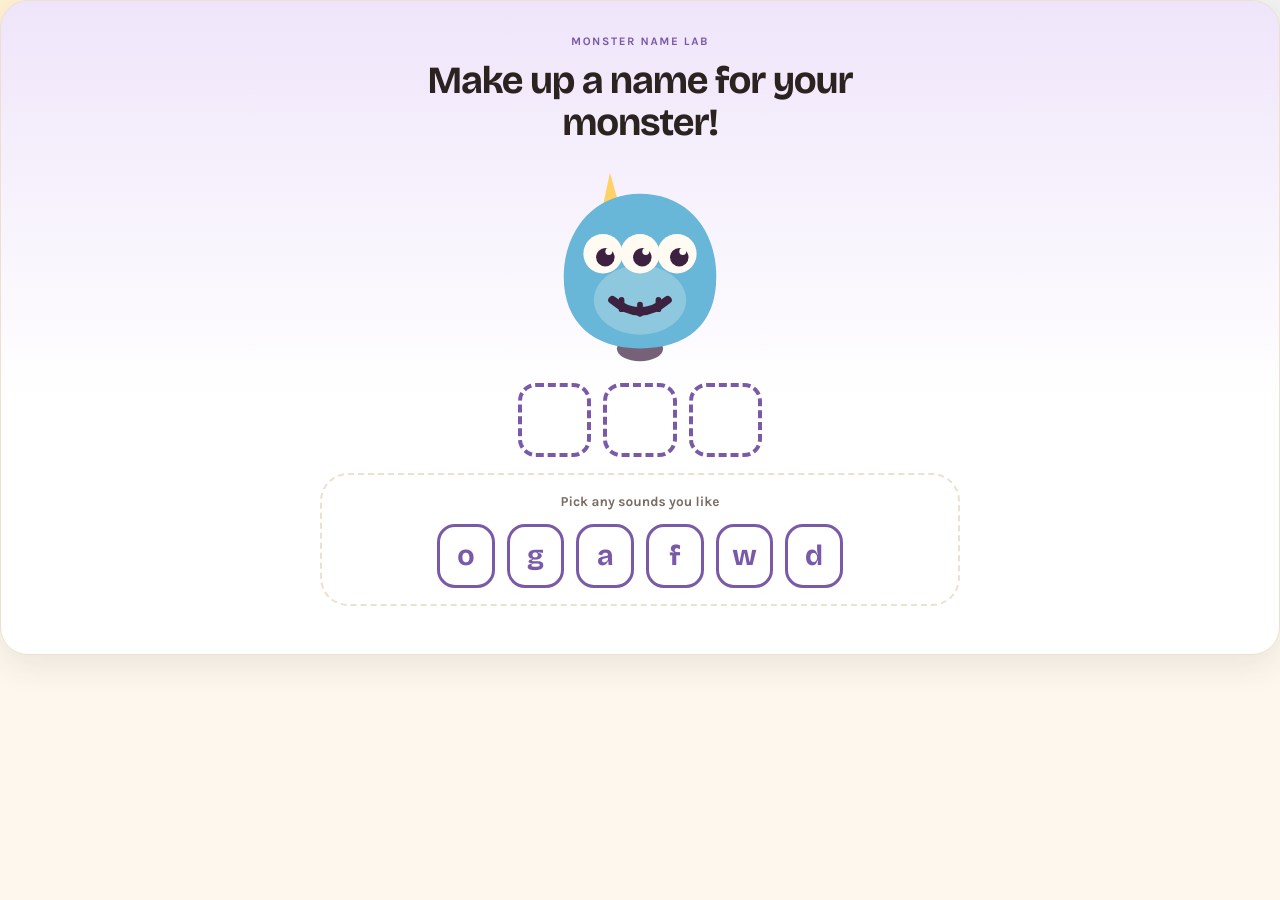
Test: Monster Name Lab › lets the child invent a name for the teacher to read
Click the button with class "grapheme-tile" showing "o": click(466, 556) [437,524,495,588]
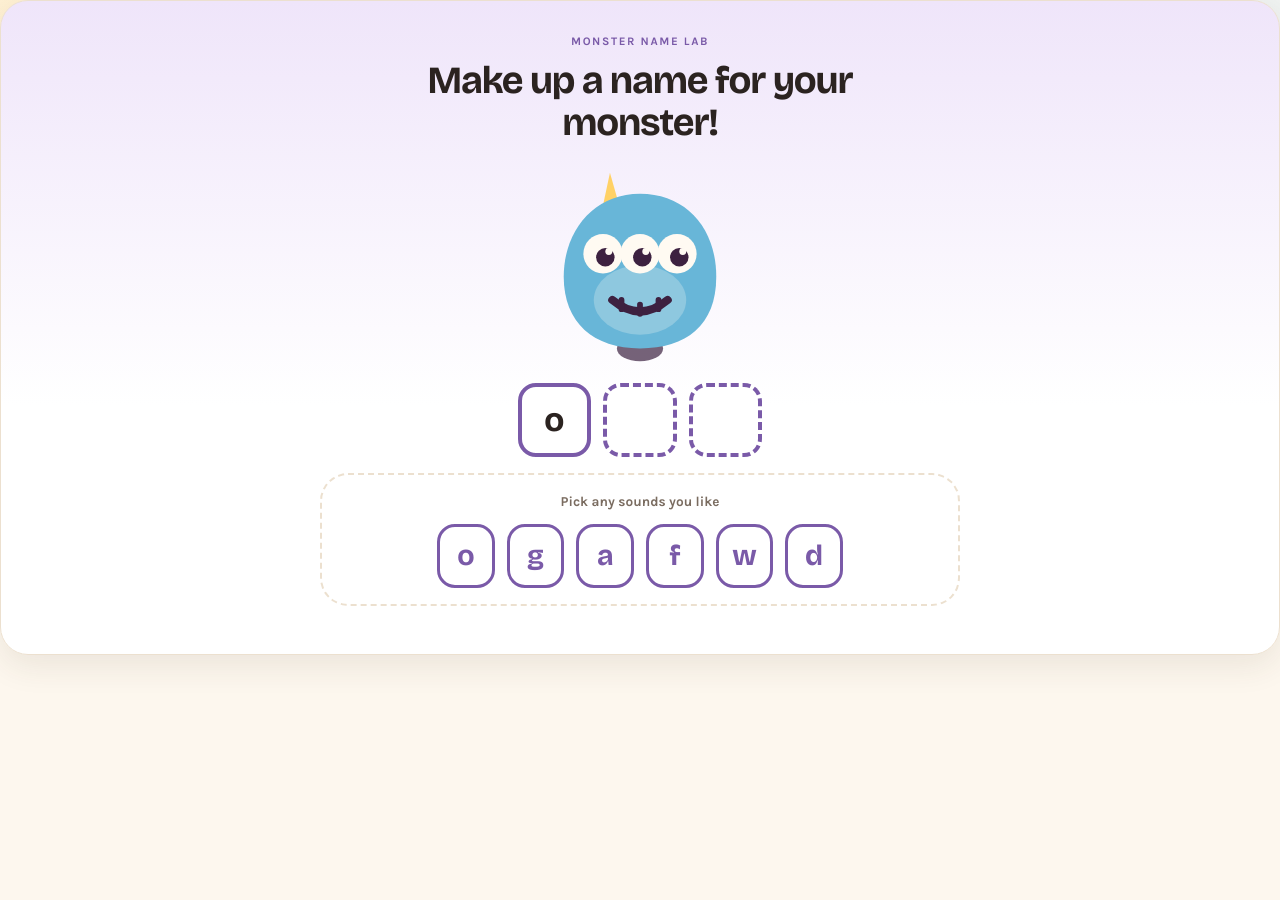
Click the button with class "grapheme-tile" showing "g": click(536, 556) [507,524,564,588]
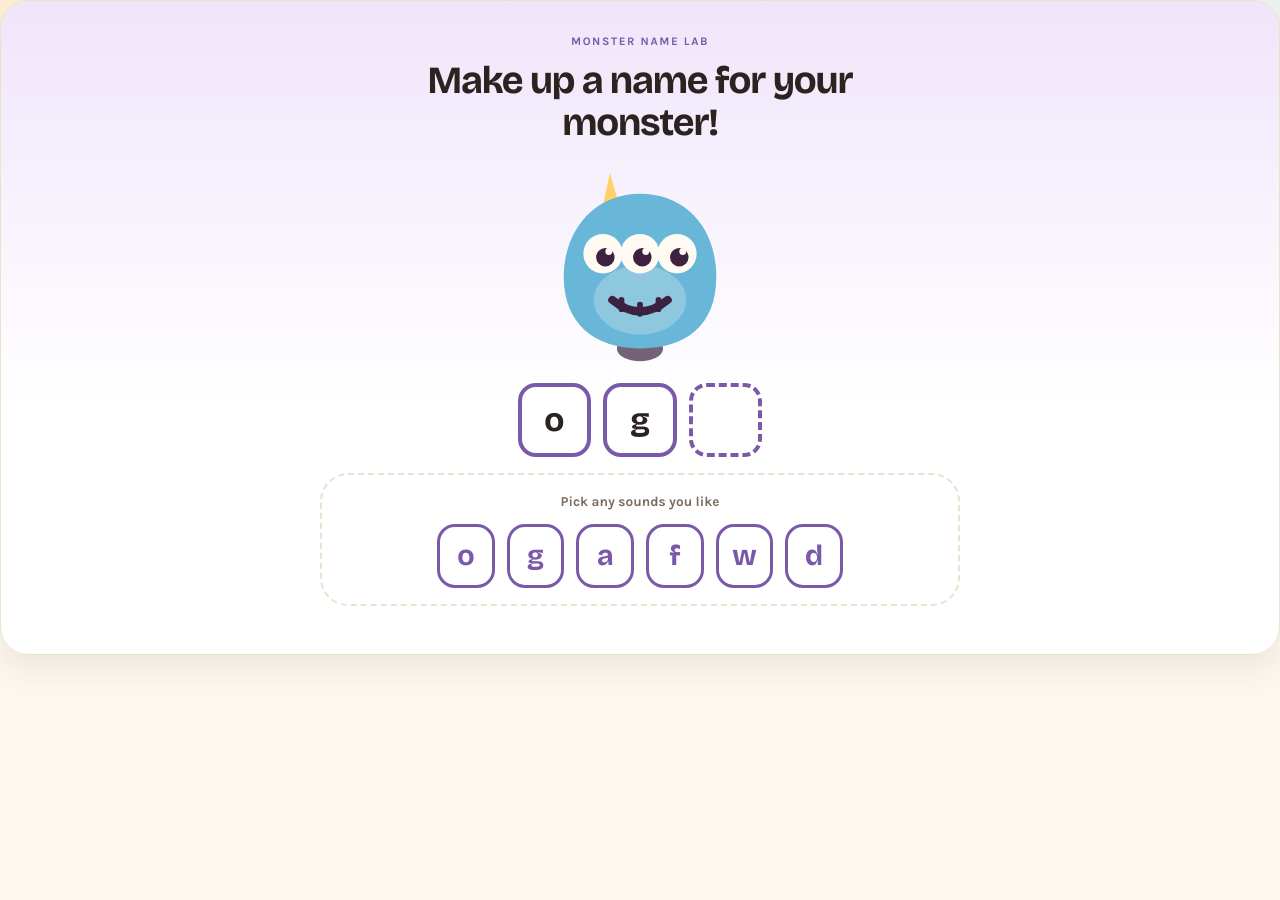
Click the button with class "grapheme-tile" showing "a": click(605, 556) [576,524,634,588]
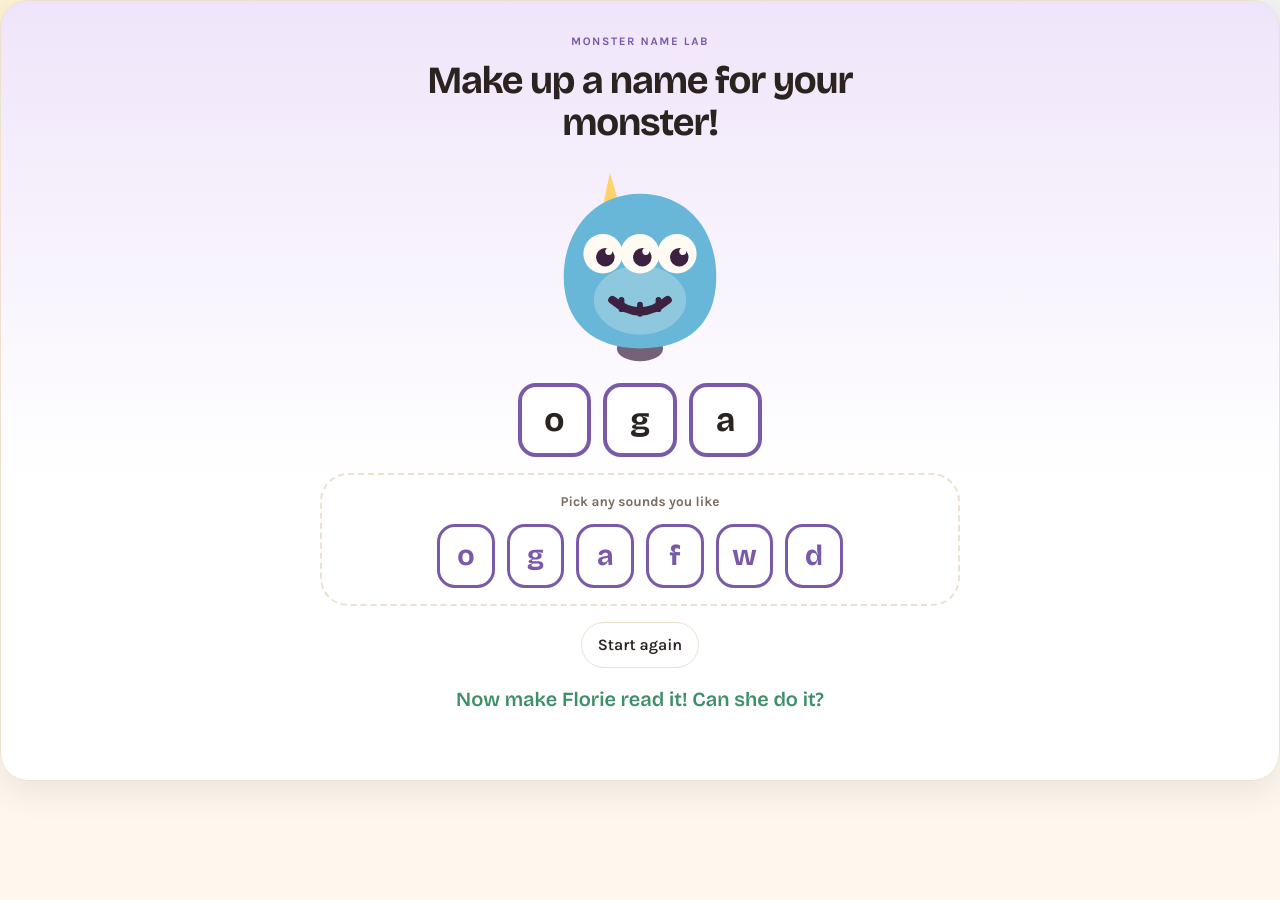
Expected: the text "Now make Florie read it! Can she do it?" is shown, [456,687,824,711]
